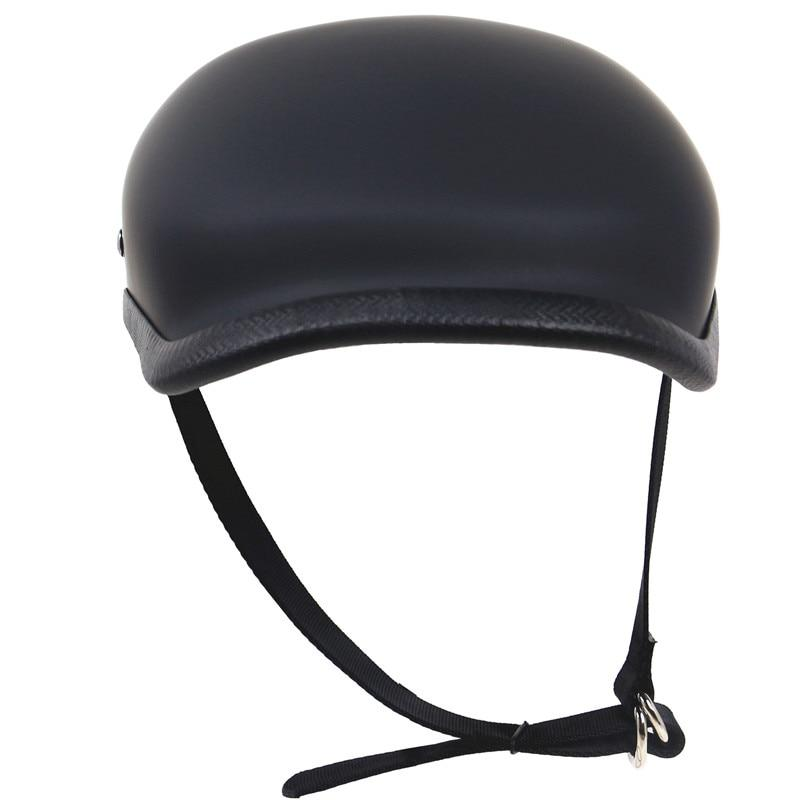with_helmet: (100, 14, 742, 417)
